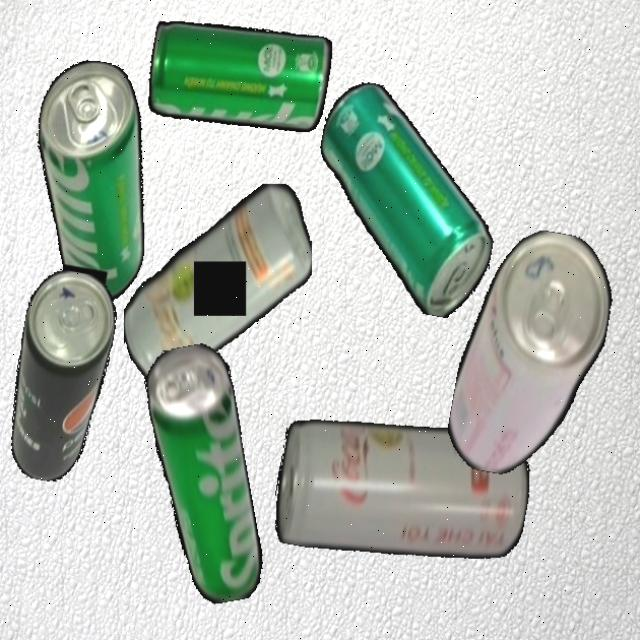debris: (295, 77, 517, 323), (267, 396, 538, 583), (442, 220, 622, 488), (10, 54, 175, 308), (123, 183, 312, 385), (140, 341, 269, 608), (0, 265, 123, 488), (142, 9, 335, 143)
